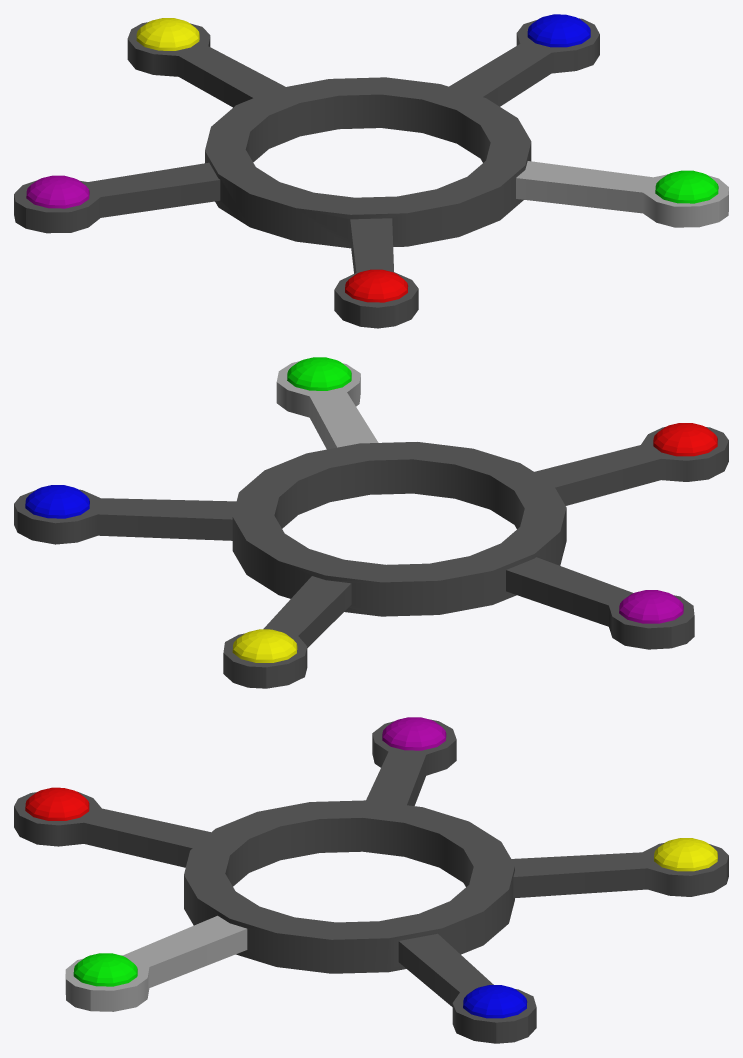
File: skylight-rotater.fbx
The picture shows the model from 3 angles, top to bottom: view 1: azimuth 30°, elevation 25°; view 2: azimuth 150°, elevation 25°; view 3: azimuth 270°, elevation 25°; orthographic projection. The views are drawn at different scales.
Visible parts, largest first — view 1: pPipe2; view 2: pPipe2; view 3: pPipe2.
Boxes of the visible parts, <box> form: pPipe2: <box>14,14,728,328</box>; pPipe2: <box>14,357,728,688</box>; pPipe2: <box>14,717,728,1043</box>.
Bounding box in the file's own units: 11.41 × 0.7708 × 11.31.
